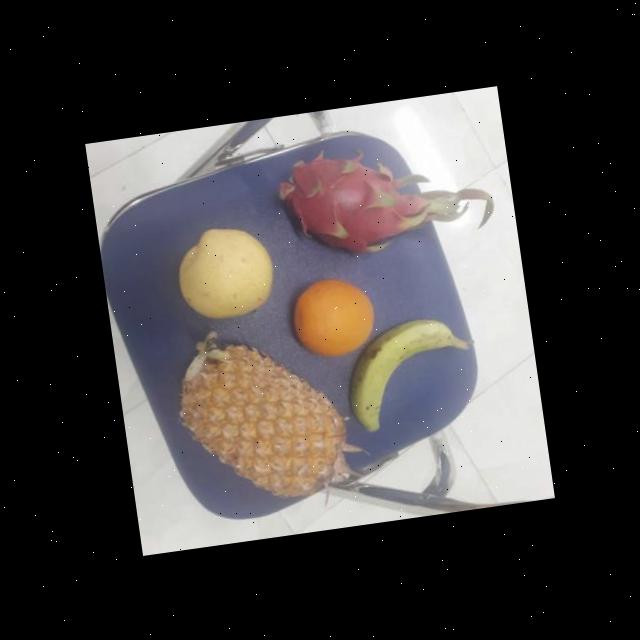banana: (339, 312, 480, 435)
orange: (287, 268, 383, 363)
pear: (173, 220, 280, 327)
pineapple: (167, 323, 351, 516)
pitaya: (271, 132, 435, 272)
